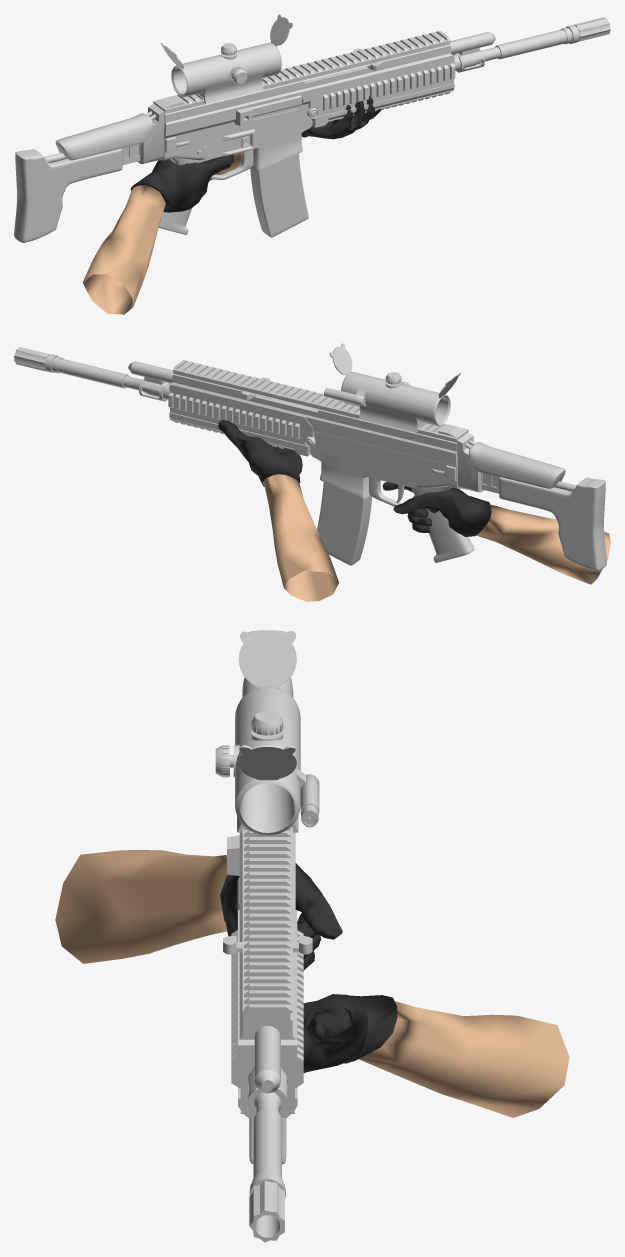
The model's file is gun4.glb.
The picture shows the model from 3 angles, top to bottom: view 1: azimuth 30°, elevation 25°; view 2: azimuth 150°, elevation 25°; view 3: azimuth 270°, elevation 25°; orthographic projection. The views are drawn at different scales.
Parts seen in each view (by area): view 1: Trigger, SMDImport.097; view 2: Trigger, SMDImport.097; view 3: SMDImport.097, Trigger.
Boxes of the visible parts, left/top/right/bottom form: Trigger: left=14, top=14, right=610, bottom=242; SMDImport.097: left=82, top=96, right=381, bottom=314; Trigger: left=14, top=343, right=606, bottom=570; SMDImport.097: left=218, top=420, right=610, bottom=601; SMDImport.097: left=55, top=850, right=569, bottom=1117; Trigger: left=215, top=630, right=319, bottom=1242.
Size of the model in its own units: 4.68 by 1.63 by 1.78.
